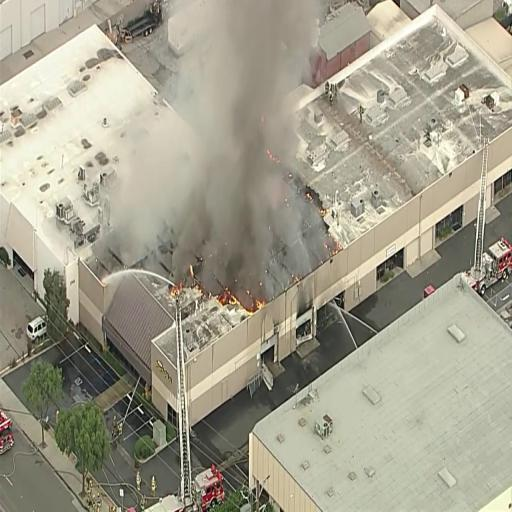smoke: (208, 11, 283, 223)
